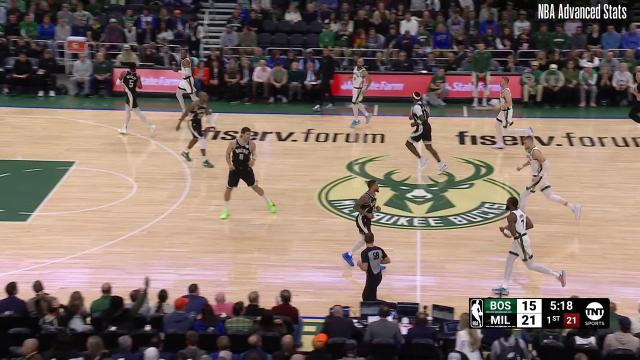free_adx: (72, 156, 82, 168)
free_asx: (22, 216, 31, 224)
mid_dx: (214, 109, 222, 117)
referee: (358, 232, 390, 304), (626, 64, 640, 132)
team: (492, 197, 566, 294), (517, 137, 581, 221), (494, 77, 534, 149), (173, 48, 211, 120), (351, 59, 374, 128)
team1: (220, 127, 276, 219), (342, 180, 386, 270), (406, 92, 446, 174), (176, 92, 214, 168), (118, 63, 156, 136)
timer: (548, 296, 574, 312)
